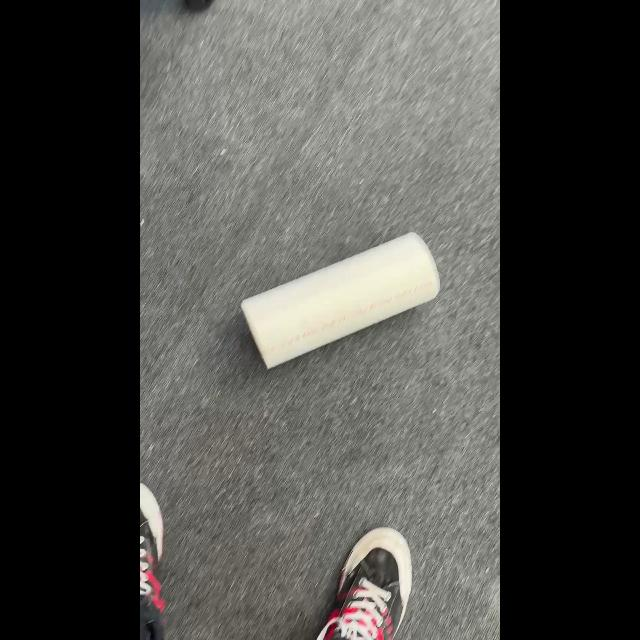CORAL: (240, 230, 440, 370)
